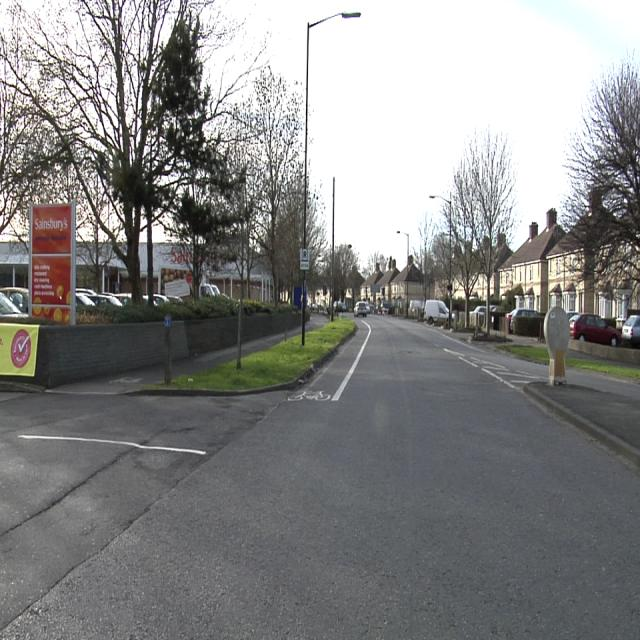Building: (494, 210, 585, 311), (363, 254, 420, 312), (153, 242, 190, 292)
Car: (571, 315, 623, 345), (1, 290, 31, 320), (76, 290, 114, 306), (624, 315, 639, 346), (476, 307, 486, 328), (355, 302, 367, 315)
Road: (0, 316, 638, 627)
Tree: (3, 2, 301, 301), (561, 49, 639, 290), (442, 127, 521, 302), (337, 243, 361, 302)
Truck_Bus: (422, 300, 447, 325)
